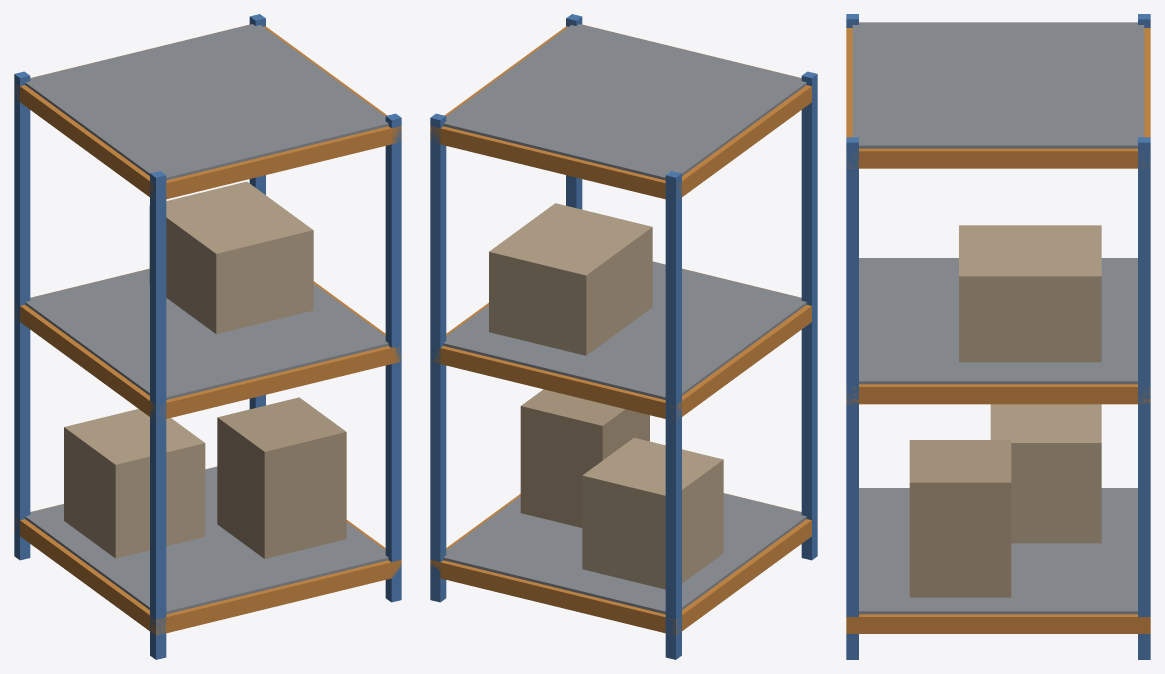
The model's file is shelf.glb.
3 views of the same model, side by side, from view 1: azimuth 30°, elevation 25°; view 2: azimuth 150°, elevation 25°; view 3: azimuth 270°, elevation 25° (orthographic). The views are drawn at different scales.
Parts seen in each view (by area): view 1: deck_1.74, deck_0.92, box_3, box_2, box_1, deck_0.12, post_-1_1, post_1_1, post_-1_-1, beam_x_0.12_1, beam_x_0.92_1, beam_x_1.74_1 (+4 smaller); view 2: deck_1.74, box_3, deck_0.92, box_1, deck_0.12, box_2, post_-1_-1, post_1_-1, post_-1_1, beam_x_0.12_-1, beam_x_1.74_-1, beam_x_0.92_-1 (+4 smaller); view 3: deck_1.74, deck_0.92, box_3, deck_0.12, box_2, box_1, post_1_-1, post_1_1, beam_z_0.92_1, beam_z_1.74_1, beam_z_0.12_1, beam_x_1.74_1 (+1 smaller).
Boxes of the visible parts, x1=… form: deck_1.74: x1=25, y1=24, x2=388, y2=180; deck_0.92: x1=25, y1=269, x2=388, y2=399; box_3: x1=149, y1=181, x2=313, y2=334; box_2: x1=217, y1=397, x2=346, y2=558; box_1: x1=64, y1=409, x2=205, y2=558; deck_0.12: x1=25, y1=466, x2=388, y2=614; post_-1_1: x1=150, y1=171, x2=166, y2=659; post_1_1: x1=385, y1=113, x2=401, y2=602; post_-1_-1: x1=14, y1=71, x2=30, y2=560; beam_x_0.12_1: x1=151, y1=560, x2=401, y2=635; beam_x_0.92_1: x1=151, y1=346, x2=401, y2=420; beam_x_1.74_1: x1=151, y1=126, x2=401, y2=199; deck_1.74: x1=443, y1=24, x2=806, y2=180; box_3: x1=489, y1=203, x2=652, y2=355; deck_0.92: x1=443, y1=261, x2=806, y2=399; box_1: x1=582, y1=437, x2=723, y2=589; deck_0.12: x1=443, y1=493, x2=806, y2=614; box_2: x1=520, y1=389, x2=649, y2=527; post_-1_-1: x1=665, y1=171, x2=681, y2=659; post_1_-1: x1=430, y1=113, x2=446, y2=602; post_-1_1: x1=801, y1=71, x2=817, y2=560; beam_x_0.12_-1: x1=430, y1=560, x2=679, y2=635; beam_x_1.74_-1: x1=430, y1=126, x2=679, y2=199; beam_x_0.92_-1: x1=430, y1=346, x2=680, y2=420; deck_1.74: x1=852, y1=22, x2=1144, y2=148; deck_0.92: x1=859, y1=258, x2=1137, y2=384; box_3: x1=959, y1=225, x2=1101, y2=362; deck_0.12: x1=859, y1=488, x2=1137, y2=614; box_2: x1=909, y1=440, x2=1011, y2=597; box_1: x1=990, y1=404, x2=1101, y2=543; post_1_-1: x1=1138, y1=137, x2=1150, y2=659; post_1_1: x1=846, y1=137, x2=858, y2=659; beam_z_0.92_1: x1=855, y1=384, x2=1140, y2=404; beam_z_1.74_1: x1=857, y1=148, x2=1140, y2=168; beam_z_0.12_1: x1=855, y1=614, x2=1141, y2=633; beam_x_1.74_1: x1=846, y1=28, x2=854, y2=168.
Bounding box in the file's own units: 0.96 × 1.8 × 0.96.
